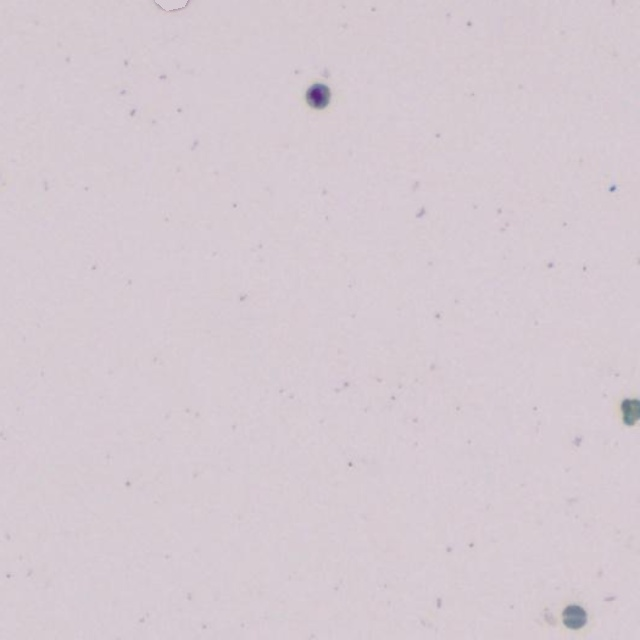intermediate: (307, 84, 329, 105)
non_viable: (562, 605, 586, 629), (622, 400, 639, 424)
